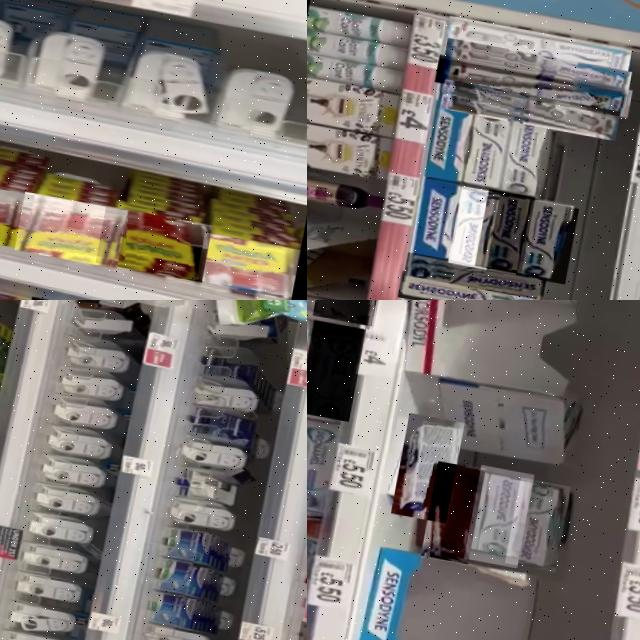Other: (98, 201, 215, 277), (17, 188, 130, 265), (307, 69, 406, 144), (199, 227, 305, 292), (307, 114, 398, 183), (307, 45, 410, 102), (307, 24, 418, 75), (307, 5, 414, 49), (204, 300, 307, 340), (307, 171, 388, 218), (0, 175, 37, 246), (141, 585, 198, 626), (157, 552, 205, 595), (165, 524, 210, 562)
Toothbrush: (434, 53, 634, 114), (440, 77, 622, 138), (440, 35, 632, 89), (445, 14, 633, 69)
Toothpaste: (393, 409, 467, 521), (466, 460, 537, 565), (405, 251, 550, 298), (423, 457, 487, 561), (507, 473, 574, 568), (459, 99, 523, 197), (307, 316, 367, 420), (497, 108, 559, 200), (517, 197, 580, 282), (477, 186, 537, 272), (399, 269, 545, 300), (450, 184, 502, 269), (307, 411, 346, 517), (307, 513, 334, 638), (313, 300, 387, 324)
